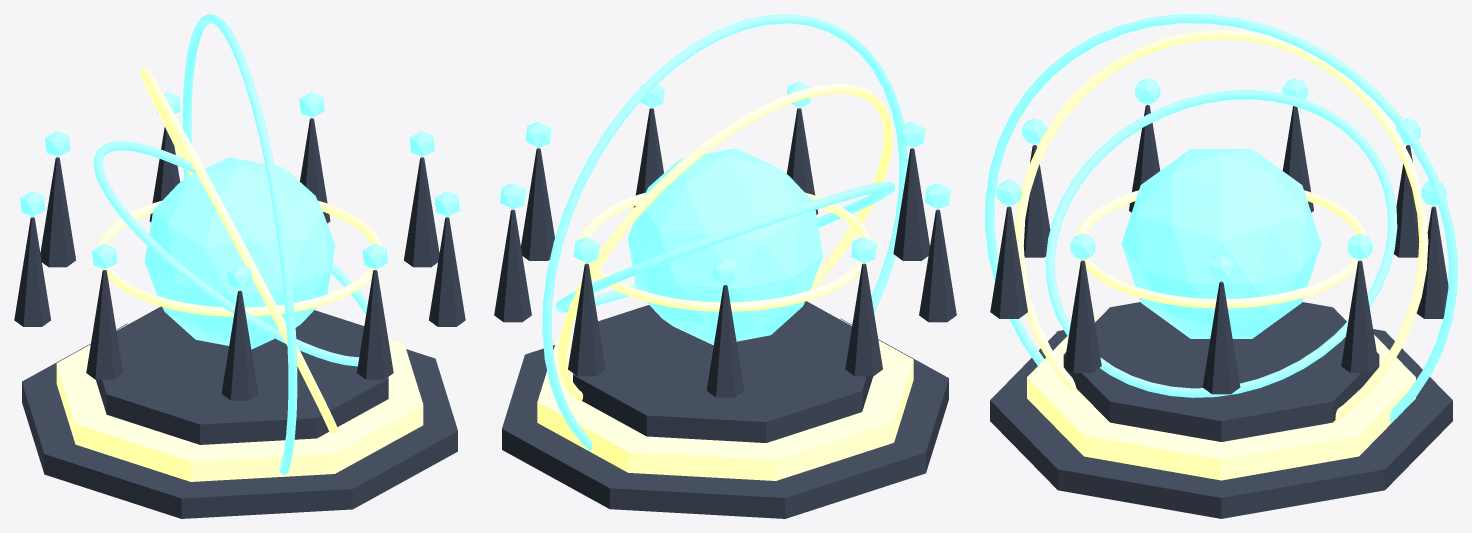
File: gpu-blender-v4.glb
3 views of the same model, side by side, from view 1: azimuth 30°, elevation 25°; view 2: azimuth 150°, elevation 25°; view 3: azimuth 270°, elevation 25° (orthographic). The views are drawn at different scales.
Parts seen in each view (by area): view 1: Cylinder.002, Cylinder, SovereignCore_pixel-cast, Cylinder.001, Torus.003, Torus.001, Torus.002, Torus, Cone.006, Cone, Cone.003, Cone.005 (+13 smaller); view 2: Cylinder.002, SovereignCore_pixel-cast, Cylinder, Cylinder.001, Torus.003, Torus.002, Torus.001, Torus, Cone.002, Cone.004, Cone.001, Cone.005 (+12 smaller); view 3: SovereignCore_pixel-cast, Cylinder.002, Cylinder, Cylinder.001, Torus.003, Torus.002, Torus.001, Torus, Cone, Cone.007, Cone.001, Cone.008 (+9 smaller).
Part boxes in pixels (x1,y1,x2,y2): Cylinder.002: [96, 306, 388, 444]; Cylinder: [22, 323, 457, 518]; SovereignCore_pixel-cast: [144, 157, 335, 349]; Cylinder.001: [56, 314, 423, 481]; Torus.003: [182, 14, 297, 474]; Torus.001: [93, 141, 367, 366]; Torus.002: [140, 68, 338, 433]; Torus: [98, 200, 381, 316]; Cone.006: [221, 290, 258, 400]; Cone: [404, 157, 439, 267]; Cone.003: [40, 157, 75, 267]; Cone.005: [86, 270, 122, 379]; Cylinder.002: [573, 301, 873, 442]; SovereignCore_pixel-cast: [627, 148, 823, 345]; Cylinder: [502, 318, 948, 518]; Cylinder.001: [537, 309, 913, 480]; Torus.003: [542, 14, 908, 450]; Torus.002: [558, 84, 892, 401]; Torus.001: [556, 181, 894, 312]; Torus: [580, 192, 870, 311]; Cone.002: [568, 263, 605, 376]; Cone.004: [845, 263, 882, 376]; Cone.001: [494, 209, 531, 322]; Cone.005: [919, 209, 956, 322]; SovereignCore_pixel-cast: [1121, 149, 1321, 338]; Cylinder.002: [1063, 302, 1379, 441]; Cylinder: [990, 329, 1452, 518]; Cylinder.001: [1027, 316, 1415, 480]; Torus.003: [985, 14, 1457, 422]; Torus.002: [1015, 30, 1428, 421]; Torus.001: [1045, 90, 1397, 397]; Torus: [1076, 190, 1366, 308]; Cone: [1202, 281, 1240, 394]; Cone.007: [990, 206, 1027, 318]; Cone.001: [1341, 260, 1378, 372]; Cone.008: [1064, 260, 1101, 372].
Size of the model in its own units: 4.41 by 4.7 by 4.49.
